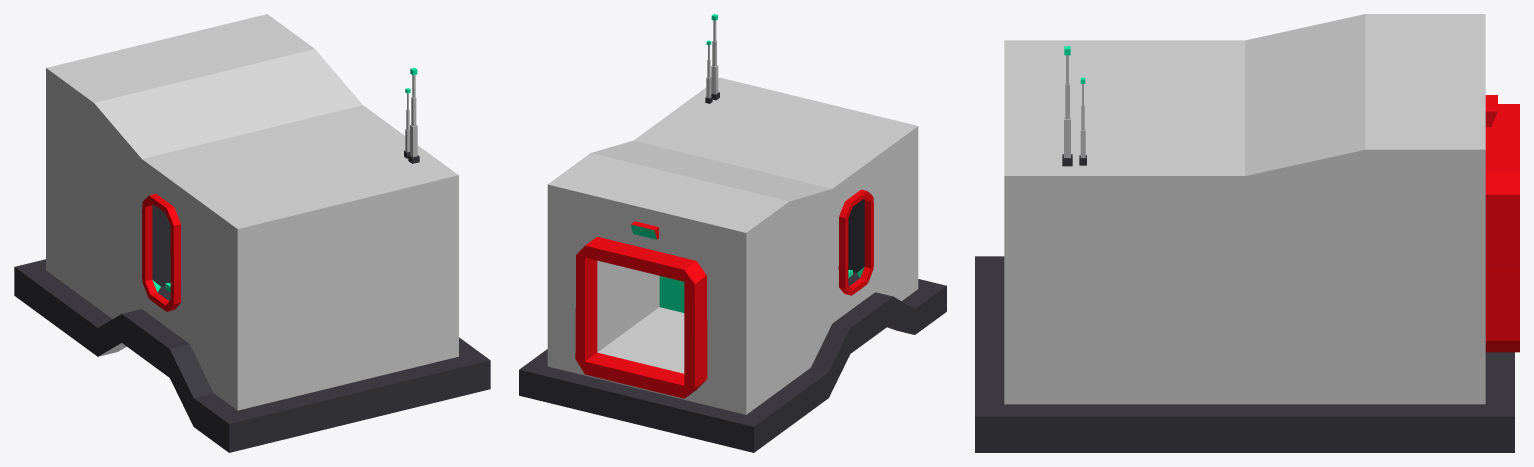
Rendered from Basic_Factory.fbx.
The picture shows the model from 3 angles, left to right: view 1: azimuth 30°, elevation 25°; view 2: azimuth 150°, elevation 25°; view 3: azimuth 270°, elevation 25°; orthographic projection. The views are drawn at different scales.
Visible parts, largest first — view 1: Basic_Factory; view 2: Basic_Factory; view 3: Basic_Factory.
Part boxes in pixels (x1,y1,x2,y2): Basic_Factory: [14, 14, 490, 452]; Basic_Factory: [519, 14, 946, 452]; Basic_Factory: [975, 14, 1519, 452].
Size of the model in its own units: 325 by 360 by 467.
